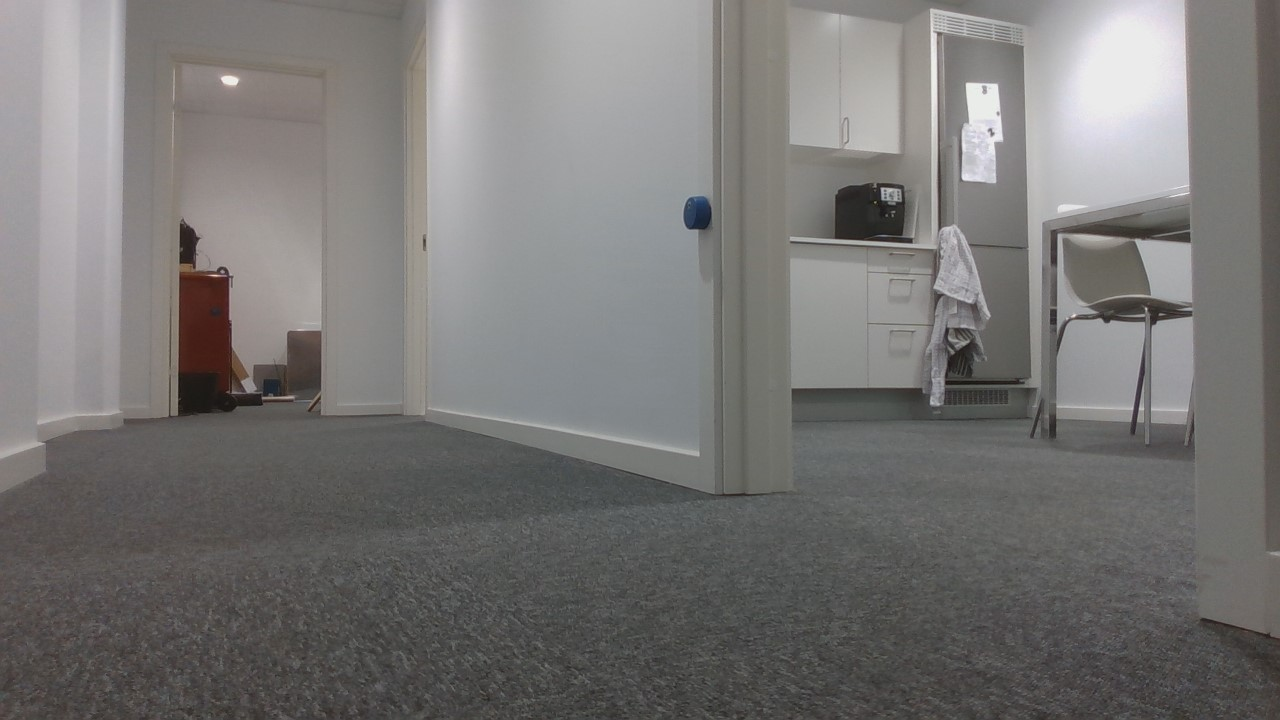alfa: (680, 194, 715, 231)
